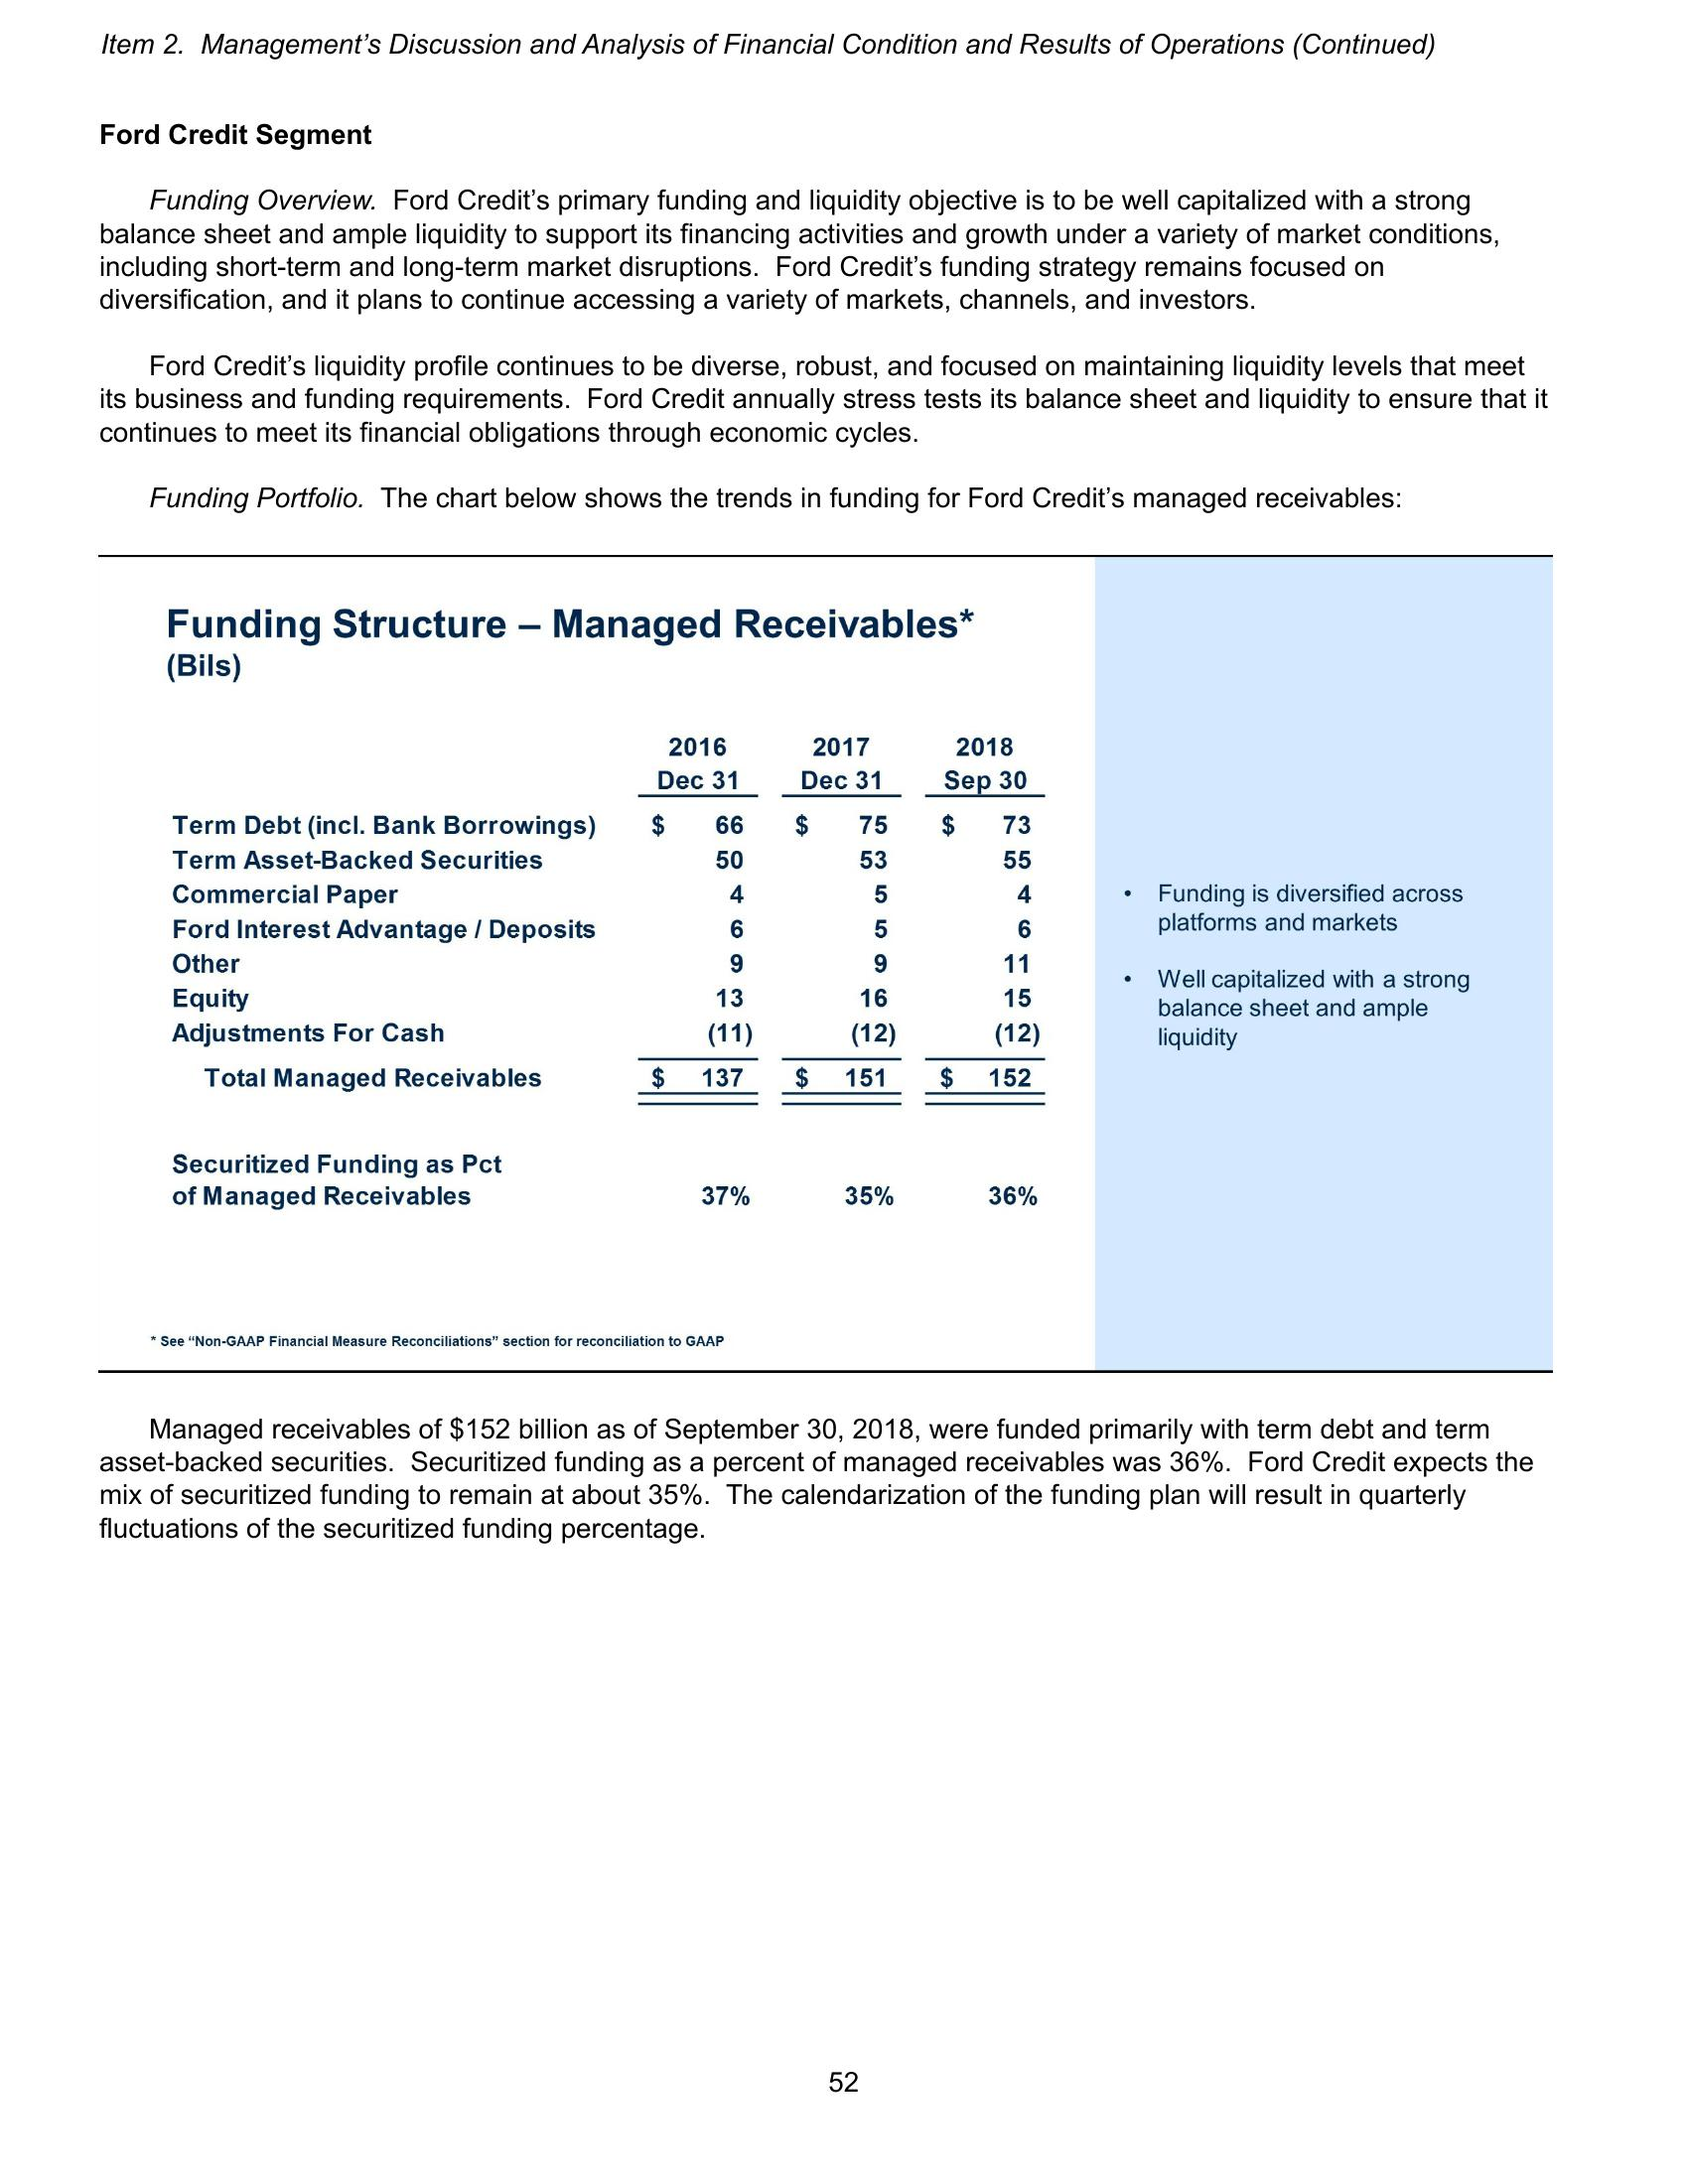table: (163, 723, 1046, 1213)
